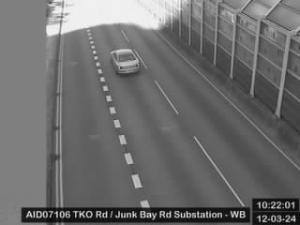vehicle: (110, 49, 142, 75)
